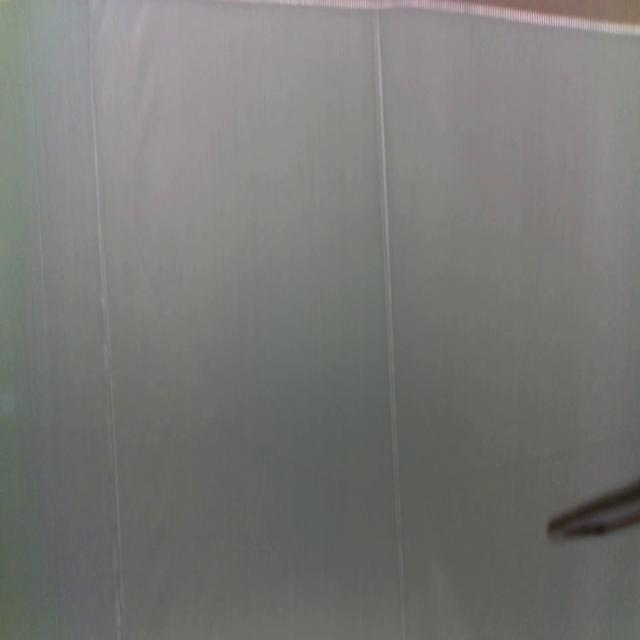crease: (89, 16, 124, 640), (374, 10, 406, 640), (24, 0, 48, 347)
